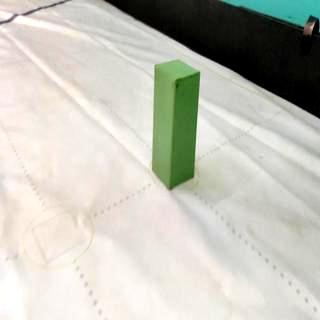greenbox: (150, 59, 202, 192)
